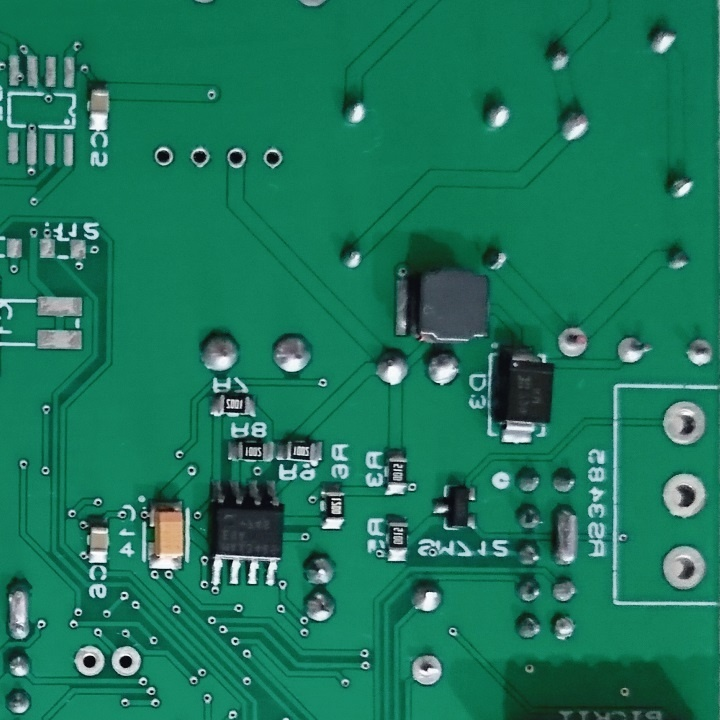F: (661, 395, 710, 449), (661, 469, 710, 518), (663, 542, 710, 592), (616, 332, 656, 370), (410, 649, 447, 689), (556, 321, 591, 361), (73, 644, 106, 680), (111, 644, 144, 680), (683, 336, 717, 369), (258, 144, 284, 172), (186, 143, 210, 171), (224, 145, 249, 170), (151, 143, 174, 170)
P: (552, 503, 584, 572), (4, 573, 33, 646)
